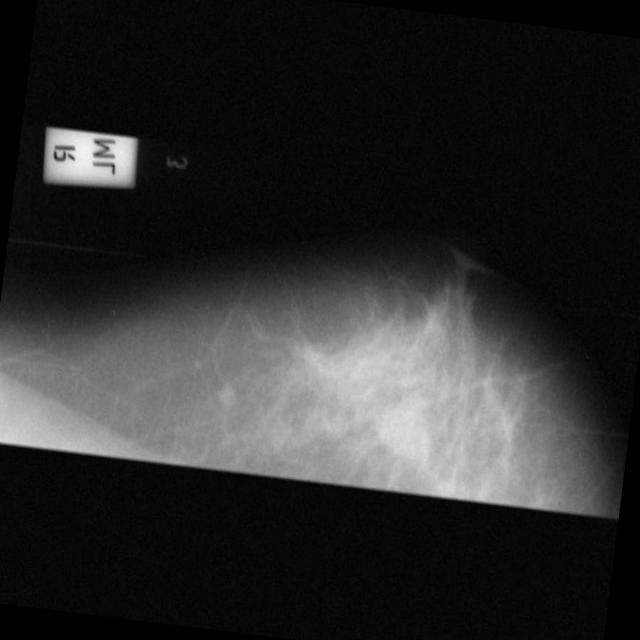ASYM: (365, 393, 434, 462)
